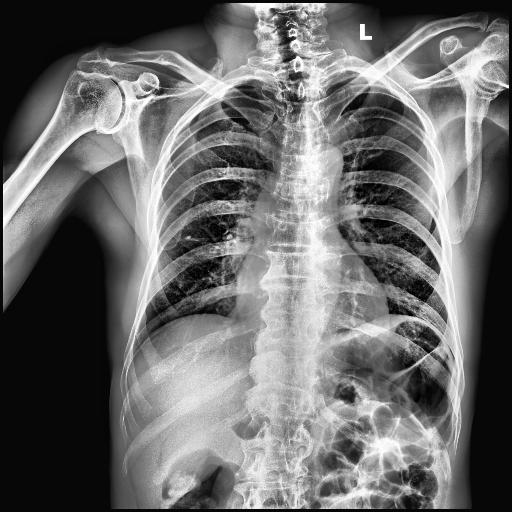0- Aortic enlargement: (252, 142, 344, 240), (302, 142, 344, 200)
13- Pulmonary fibrosis: (182, 232, 220, 250), (184, 234, 222, 251)
